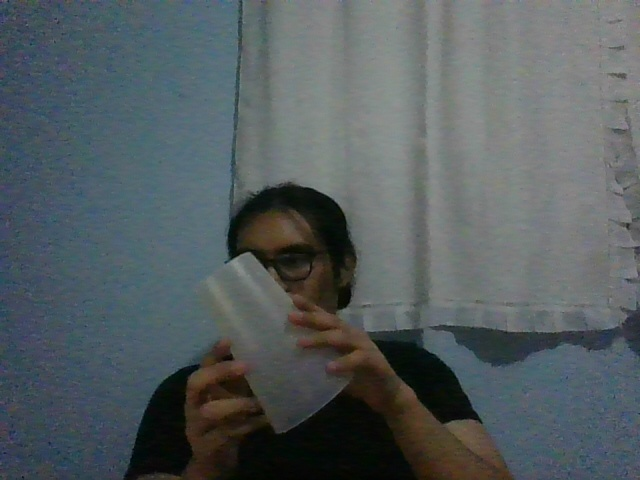vaso: (191, 252, 356, 435)
